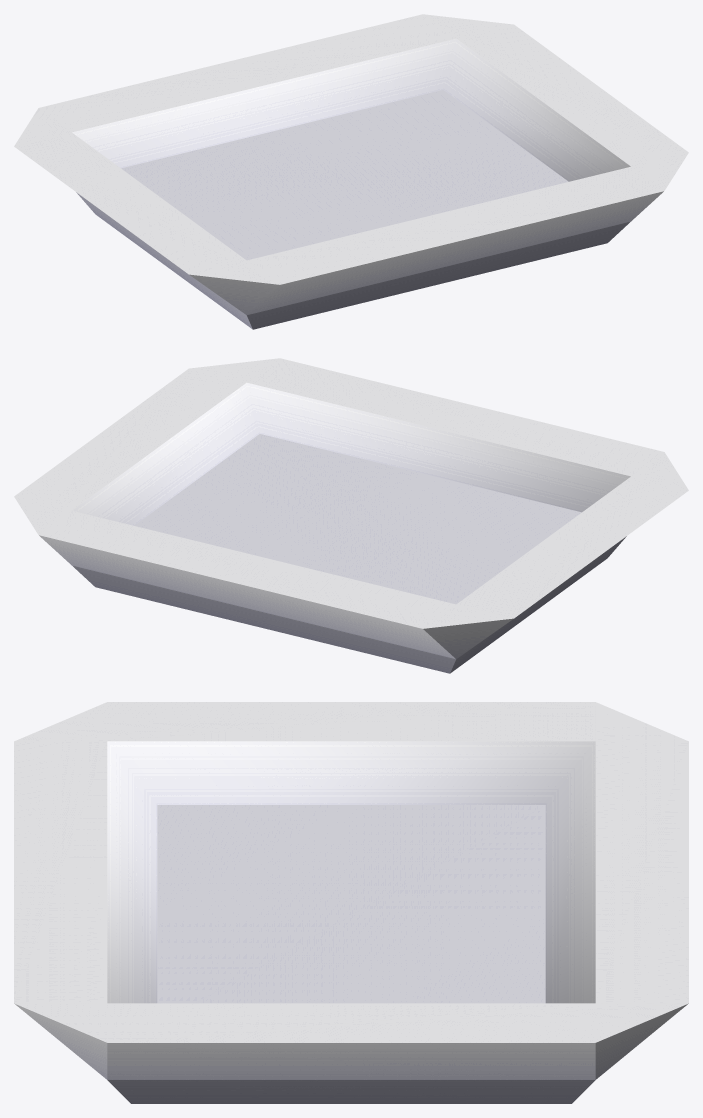
File: plate-rectangle.glb
The picture shows the model from 3 angles, top to bottom: view 1: azimuth 30°, elevation 25°; view 2: azimuth 150°, elevation 25°; view 3: azimuth 270°, elevation 25°; orthographic projection. The views are drawn at different scales.
Visible parts, largest first — view 1: plate-rectangle; view 2: plate-rectangle; view 3: plate-rectangle.
Boxes of the visible parts, x1,y1,x2,y2 form: plate-rectangle: [14, 14, 688, 329]; plate-rectangle: [14, 358, 688, 673]; plate-rectangle: [14, 702, 688, 1103].
Size of the model in its own units: 0.8586 by 0.13 by 0.7186.
1 material, 1 textured.
